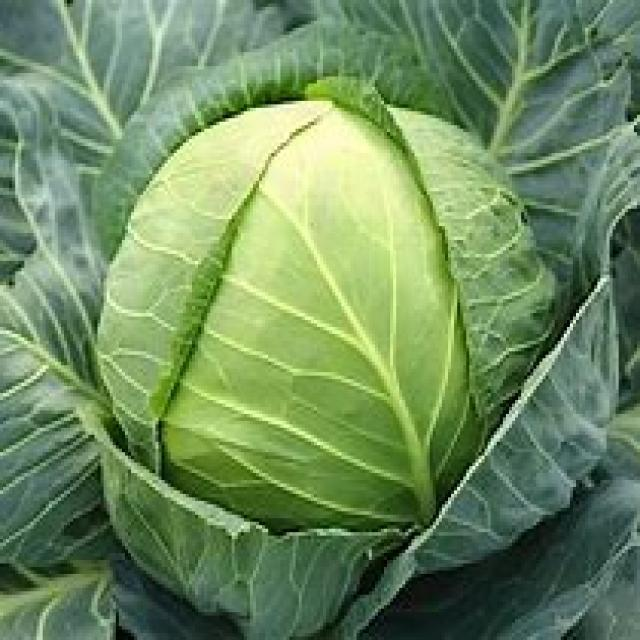cabbage: (94, 88, 551, 540)
